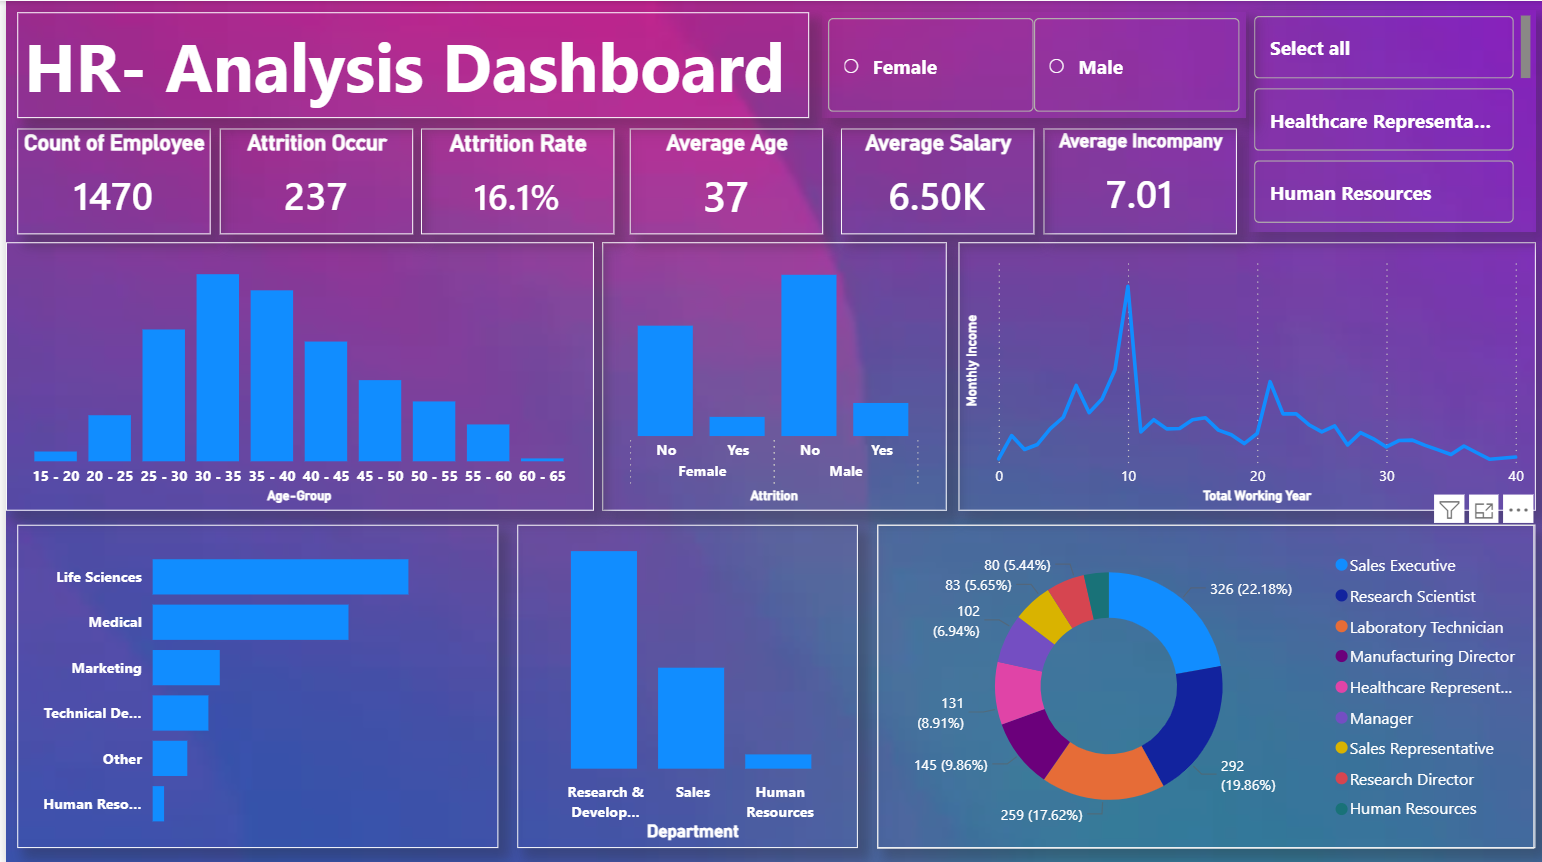

This screenshot's page, from the dashboard's own definition file:
{"tool":"powerbi","page":{"name":"Page 1","canvas":[1280,720],"ordinal":0},"visuals":[{"type":"cardVisual","title":"Count of Employee","fields":{"Data":["CountNonNull(HR-Employee-Attrition.Age)"]},"box":[9.3,105.8,160.5,88.4],"z":0},{"type":"cardVisual","title":"Average Age","fields":{"Data":["Avg(HR-Employee-Attrition.Age)1"]},"box":[518.6,105.8,160.5,88.4],"z":1000},{"type":"cardVisual","title":"Average Incompany","fields":{"Data":["Avg(HR-Employee-Attrition.YearsAtCompany)"]},"box":[862.8,105.8,160.5,88.4],"z":2000},{"type":"cardVisual","title":"Attrition Occur","fields":{"Data":["Sum(HR-Employee-Attrition.Arrition Column)"]},"box":[177.9,105.8,160.5,88.4],"z":3000},{"type":"cardVisual","title":"Attrition Rate","fields":{"Data":["HR-Employee-Attrition.Arrition Rate"]},"box":[345.3,105.8,160.5,88.4],"z":4000},{"type":"cardVisual","title":"Average Salary","fields":{"Data":["Avg(HR-Employee-Attrition.MonthlyIncome)"]},"box":[694.2,105.8,160.5,88.4],"z":5000},{"type":"textbox","box":[9.3,9.3,658.1,88.4],"z":6000},{"type":"columnChart","fields":{"Category":["HR-Employee-Attrition.Gender","HR-Employee-Attrition.Attrition"],"Y":["CountNonNull(HR-Employee-Attrition.Age-Group)"]},"box":[496.1,200.5,286.8,223.3],"z":7000},{"type":"columnChart","fields":{"Category":["HR-Employee-Attrition.Age-Group","HR-Employee-Attrition.Age"],"Y":["CountNonNull(HR-Employee-Attrition.Attrition)"]},"box":[0,200.5,488.5,223.3],"z":8000},{"type":"lineChart","fields":{"Category":["HR-Employee-Attrition.TotalWorkingYears"],"Y":["Sum(HR-Employee-Attrition.MonthlyIncome)"]},"box":[791.8,200.5,479.6,223.3],"z":9000},{"type":"columnChart","fields":{"Category":["HR-Employee-Attrition.Department"],"Y":["CountNonNull(HR-Employee-Attrition.Age-Group)"]},"box":[425.1,435.2,283,269],"z":10000},{"type":"barChart","fields":{"Y":["CountNonNull(HR-Employee-Attrition.Attrition)"],"Category":["HR-Employee-Attrition.EducationField"]},"box":[8.9,435.2,399.7,269],"z":11000},{"type":"donutChart","fields":{"Y":["CountNonNull(HR-Employee-Attrition.Attrition)"],"Category":["HR-Employee-Attrition.JobRole"]},"box":[724.5,435.2,546.9,269],"z":12000},{"type":"advancedSlicerVisual","fields":{"Values":["HR-Employee-Attrition.Gender"]},"box":[679.1,9.3,352.3,88.4],"z":13000},{"type":"advancedSlicerVisual","fields":{"Values":["HR-Employee-Attrition.JobRole"]},"box":[1033,7.3,239,185],"z":14000}]}

Visuals, with their boxes in screenshot pixels (x1, y1, x2, y2), scaled from the page's 1280x720 canvas onto the 1542x862 screenshot:
"Count of Employee" cardVisual: box=[11, 127, 205, 233]
"Average Age" cardVisual: box=[625, 127, 818, 233]
"Average Incompany" cardVisual: box=[1039, 127, 1233, 233]
"Attrition Occur" cardVisual: box=[214, 127, 408, 233]
"Attrition Rate" cardVisual: box=[416, 127, 609, 233]
"Average Salary" cardVisual: box=[836, 127, 1030, 233]
textbox: box=[11, 11, 804, 117]
columnChart - HR-Employee-Attrition.Gender x HR-Employee-Attrition.Attrition: box=[598, 240, 943, 507]
columnChart - HR-Employee-Attrition.Age-Group x HR-Employee-Attrition.Age: box=[0, 240, 588, 507]
lineChart - HR-Employee-Attrition.TotalWorkingYears x Sum(HR-Employee-Attrition.MonthlyIncome): box=[954, 240, 1532, 507]
columnChart - HR-Employee-Attrition.Department x CountNonNull(HR-Employee-Attrition.Age-Group): box=[512, 521, 853, 843]
barChart - CountNonNull(HR-Employee-Attrition.Attrition) x HR-Employee-Attrition.EducationField: box=[11, 521, 492, 843]
donutChart - CountNonNull(HR-Employee-Attrition.Attrition) x HR-Employee-Attrition.JobRole: box=[873, 521, 1532, 843]
advancedSlicerVisual - HR-Employee-Attrition.Gender: box=[818, 11, 1243, 117]
advancedSlicerVisual - HR-Employee-Attrition.JobRole: box=[1244, 9, 1532, 230]
